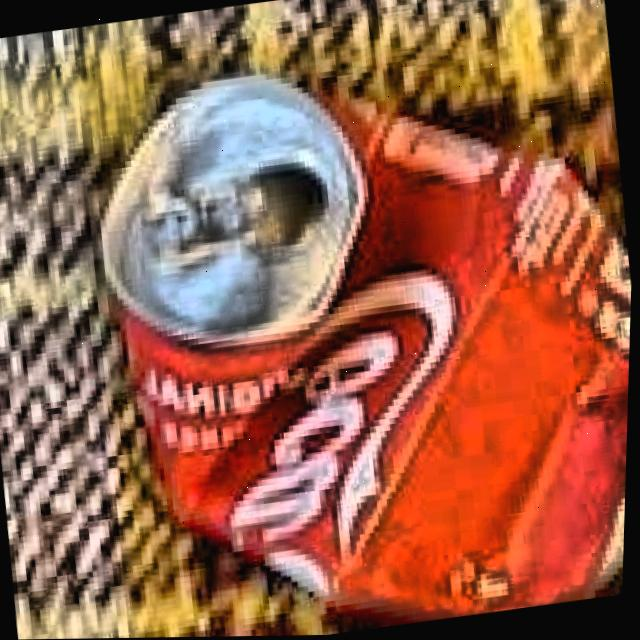metal: (94, 72, 633, 623)
